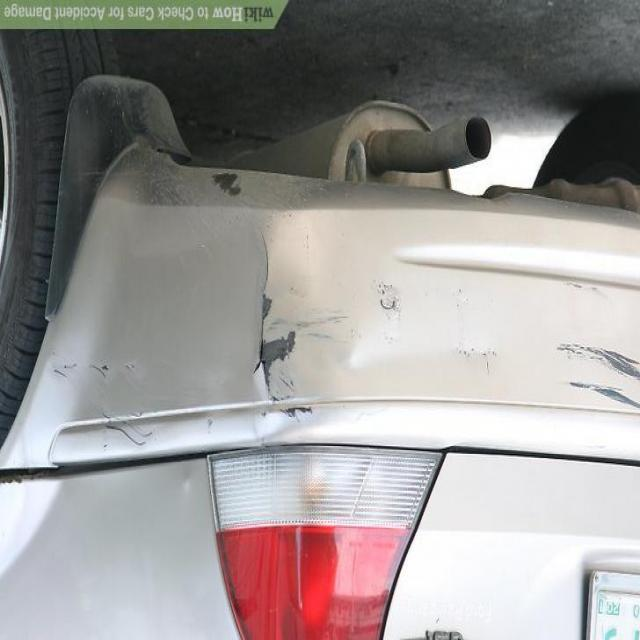scratch: (242, 220, 324, 431), (516, 314, 640, 416), (198, 163, 254, 196)
